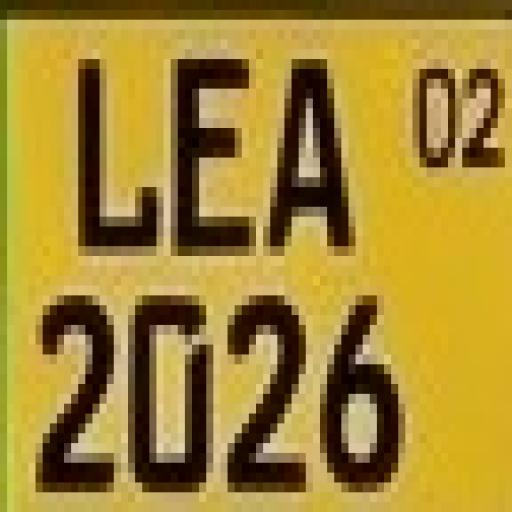0: (123, 300, 218, 489)
2: (221, 293, 311, 495), (26, 301, 118, 493)
6: (323, 286, 404, 494)
A: (270, 66, 350, 254)
E: (169, 56, 254, 260)
L: (70, 58, 160, 258)
